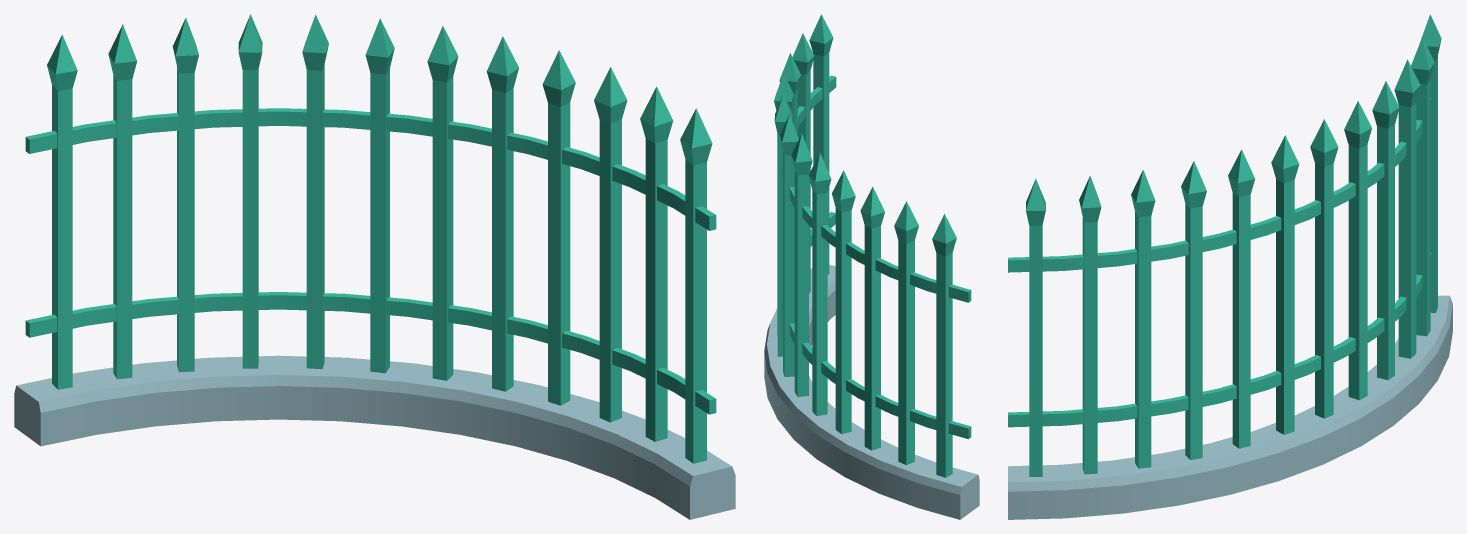
The model's file is ironFenceBorderCurve.dae.
3 views of the same model, side by side, from view 1: azimuth 30°, elevation 25°; view 2: azimuth 150°, elevation 25°; view 3: azimuth 270°, elevation 25° (orthographic). The views are drawn at different scales.
Parts seen in each view (by area): view 1: ironFenceBorderCurve; view 2: ironFenceBorderCurve; view 3: ironFenceBorderCurve.
Part boxes in pixels (box(x1,y1,x2,y2)): ironFenceBorderCurve: box(14, 14, 735, 519); ironFenceBorderCurve: box(764, 14, 979, 519); ironFenceBorderCurve: box(1008, 14, 1452, 519).
Size of the model in its own units: 1 by 0.8239 by 1.
